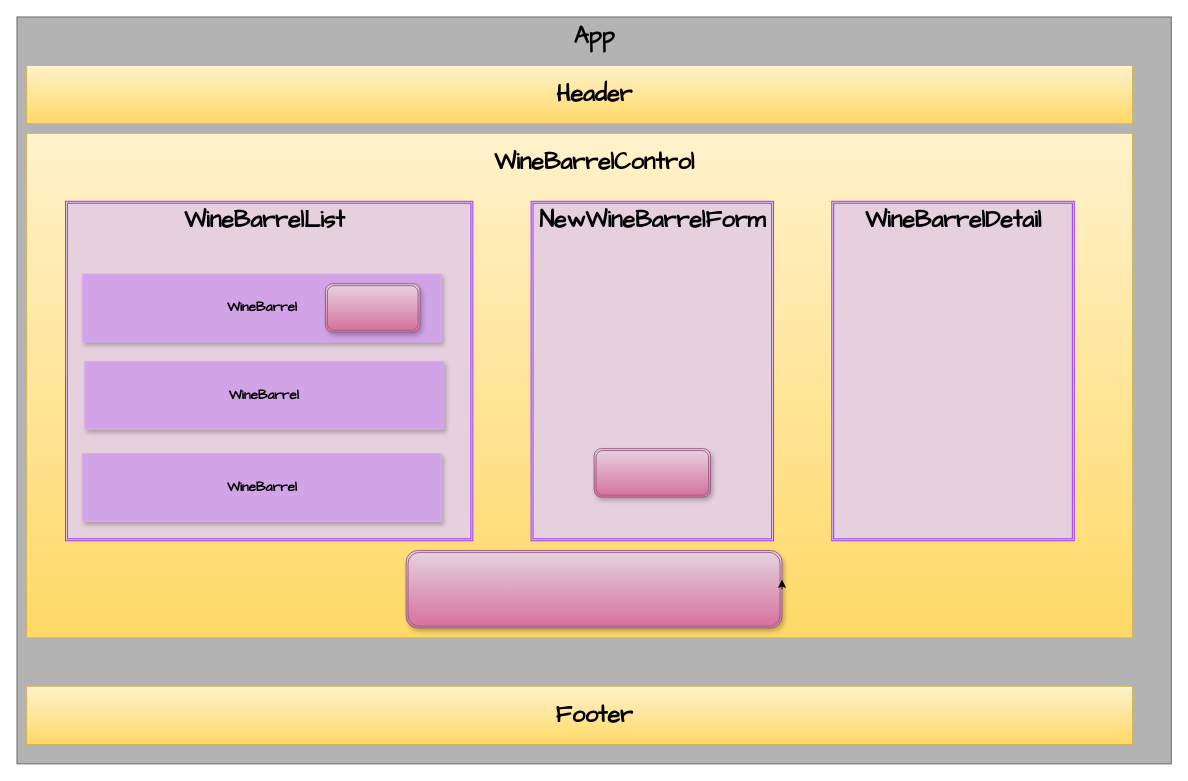
Some shapes in this 1188 by 781 pixel diagram are drawn without their labels. Here are the shapes that lost their labels. From the top down, the centre of each, then its label:
the point at 373,309: Sell
the point at 652,474: Submit
the point at 594,590: Add NewWineBarrel
